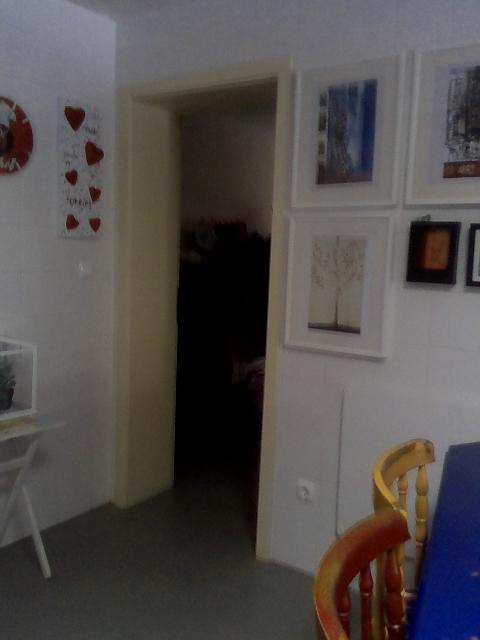open_door: (110, 56, 296, 561)
